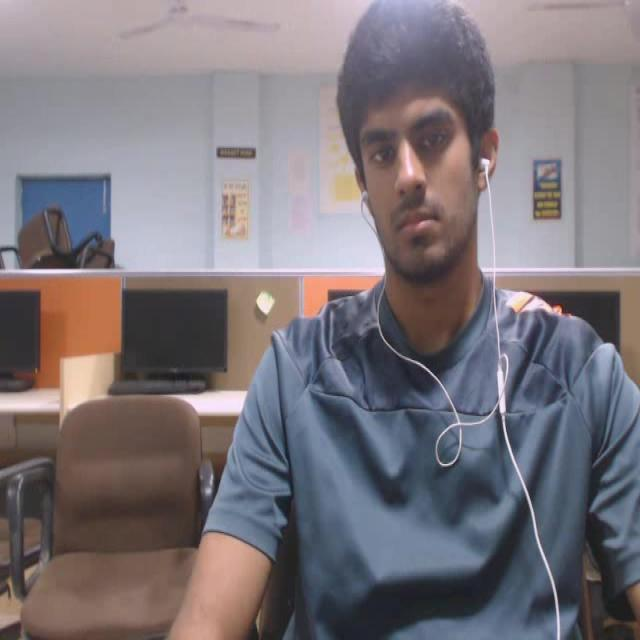Bored: (309, 0, 527, 311)
